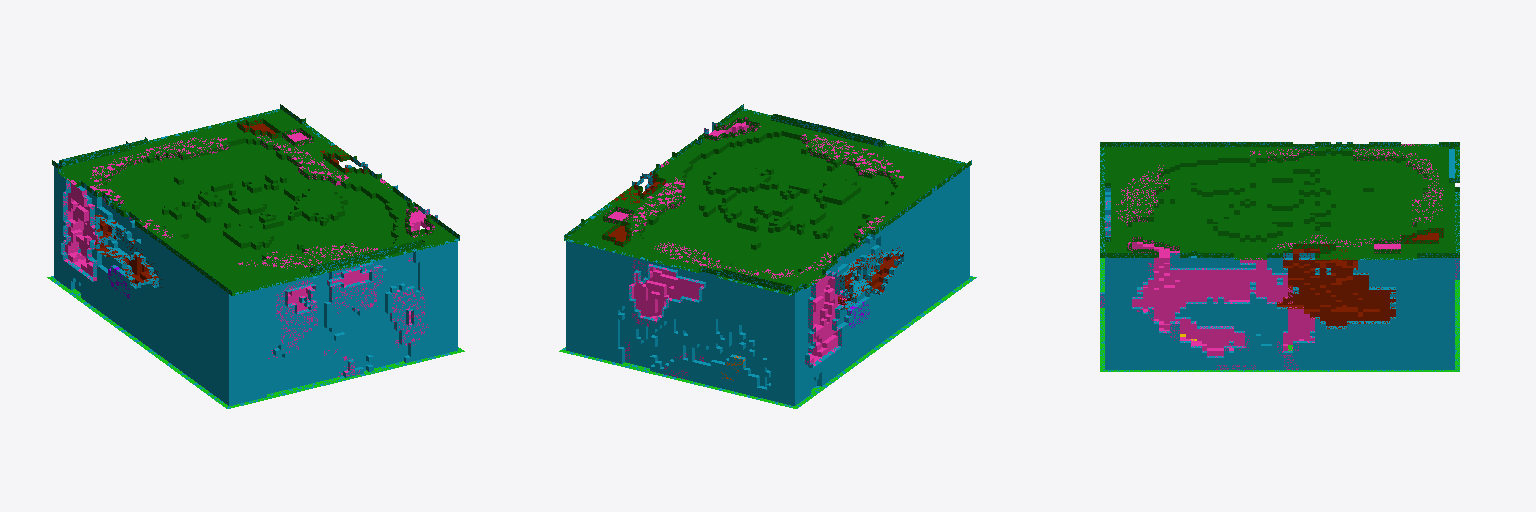
Rendered from Input_prediction.obj.
The picture shows the model from 3 angles: view 1: azimuth 30°, elevation 25°; view 2: azimuth 150°, elevation 25°; view 3: azimuth 270°, elevation 25°; orthographic projection.
Parts seen in each view (by area): view 1: Cube; view 2: Cube; view 3: Cube.
Boxes of the visible parts, <box> form: Cube: <box>47,104,464,408</box>; Cube: <box>559,104,976,408</box>; Cube: <box>1100,142,1459,371</box>.
Bounding box in the file's own units: 4.08 × 1.92 × 5.36.